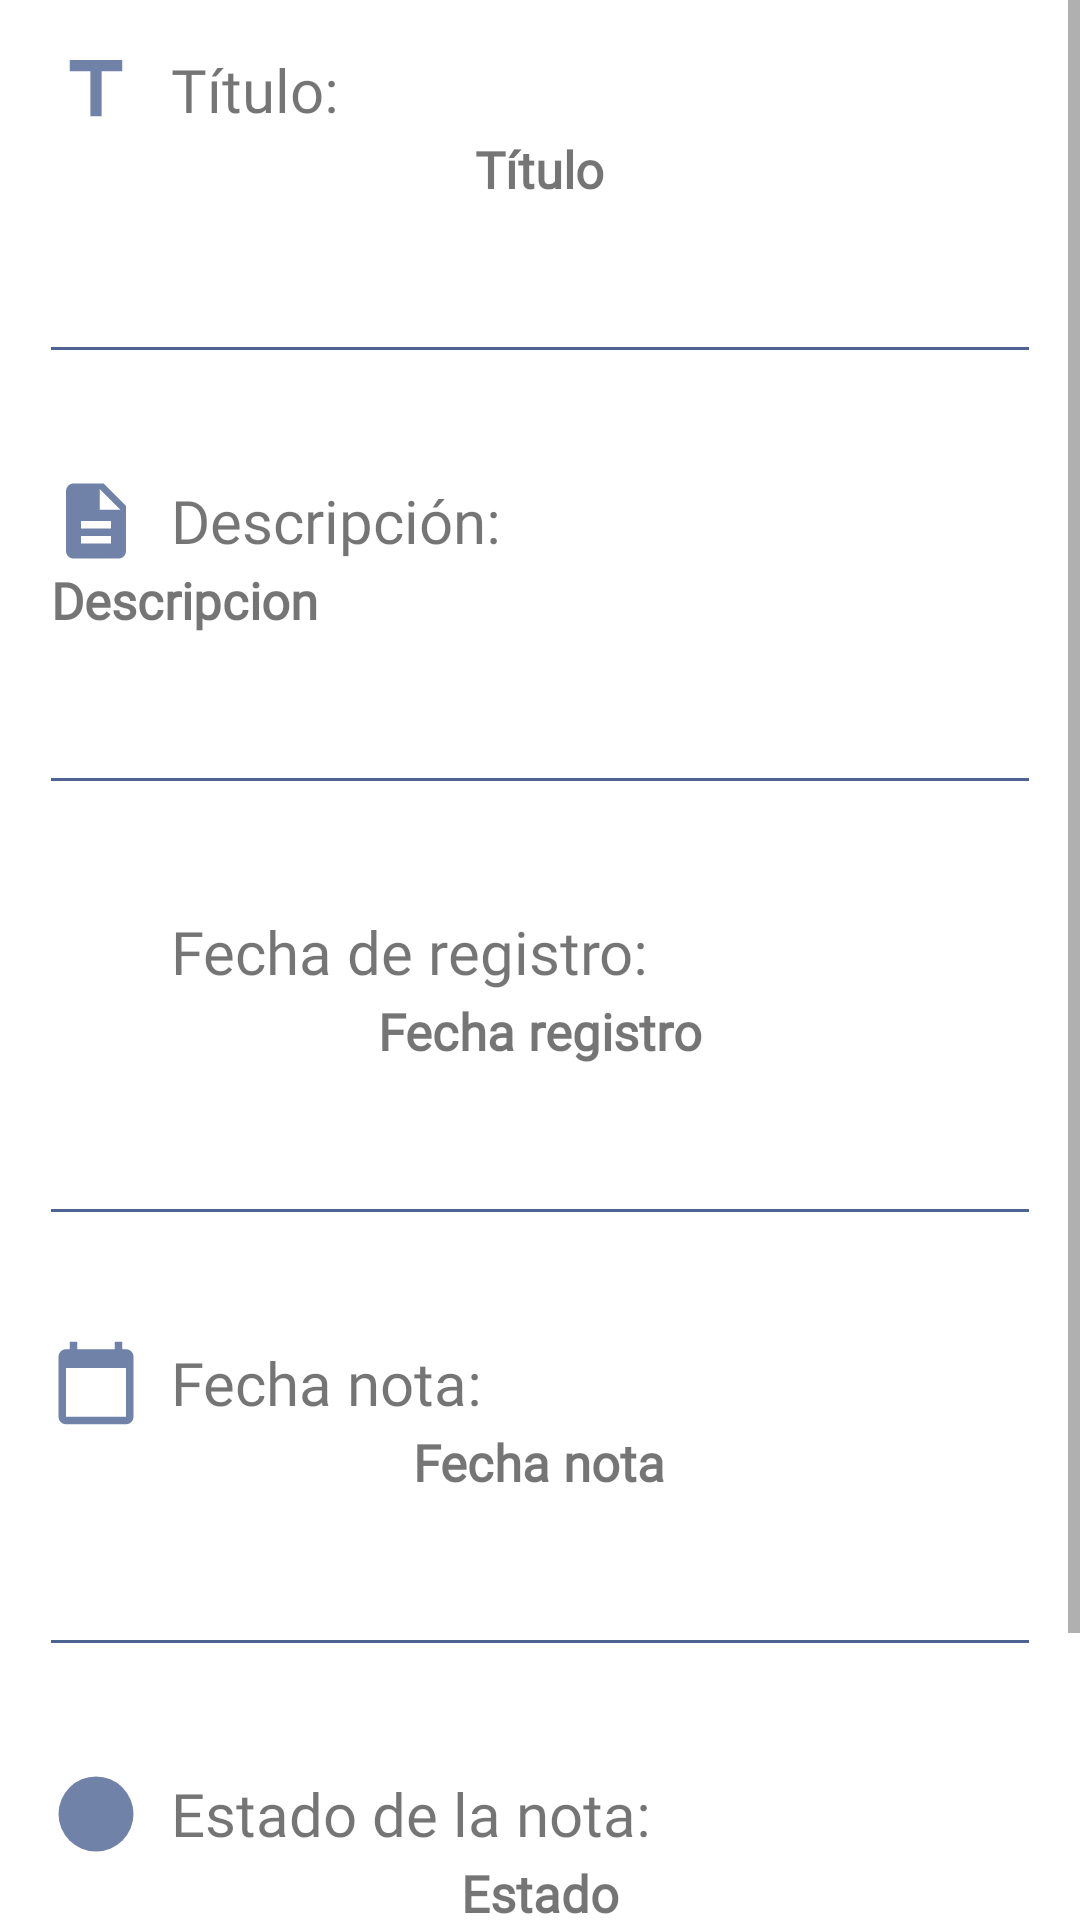

Screen size 1080 × 1920. Icon name, then its box in pixels as (x1, y1, x2, y2):
titulo nota detalle: (69, 60, 123, 117)
